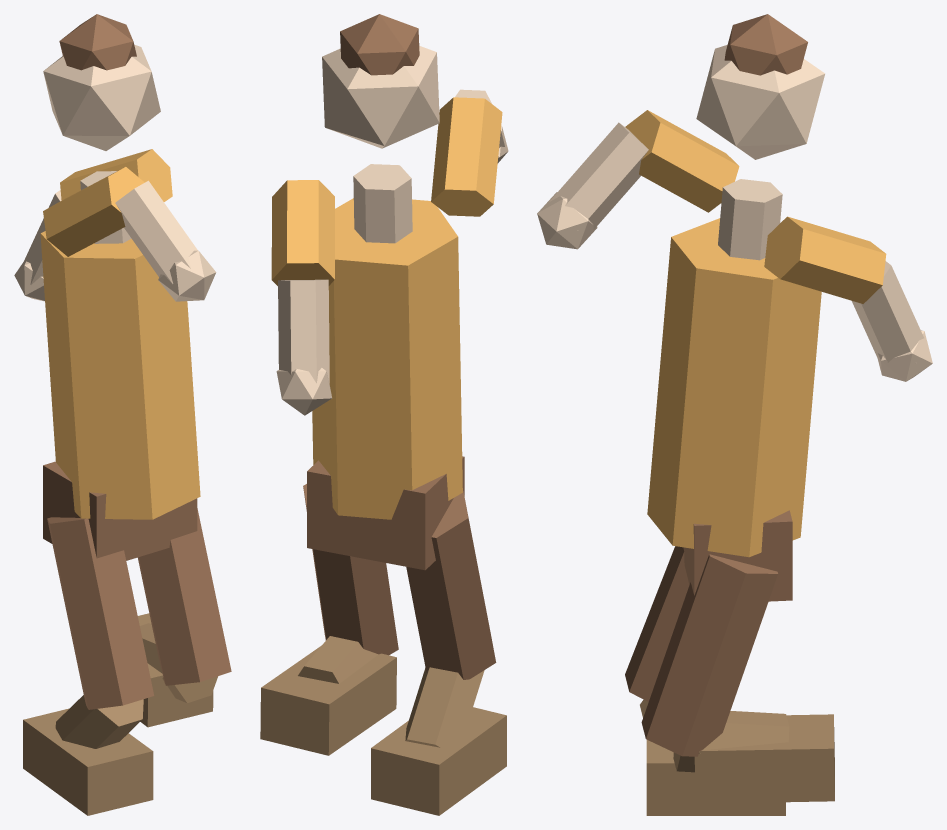
Rendered from pose_attack_1_06.glb.
3 renders of one model, left to right at view 1: azimuth 30°, elevation 25°; view 2: azimuth 150°, elevation 25°; view 3: azimuth 270°, elevation 25°, orthographic. The views are drawn at different scales.
Visible parts, largest first — view 1: pose; view 2: pose; view 3: pose.
Part boxes in pixels (x1,y1,x2,y2): pose: [14, 14, 231, 815]; pose: [260, 14, 508, 815]; pose: [537, 14, 932, 815].
Bounding box in the file's own units: 0.3682 × 1.52 × 0.6817.
